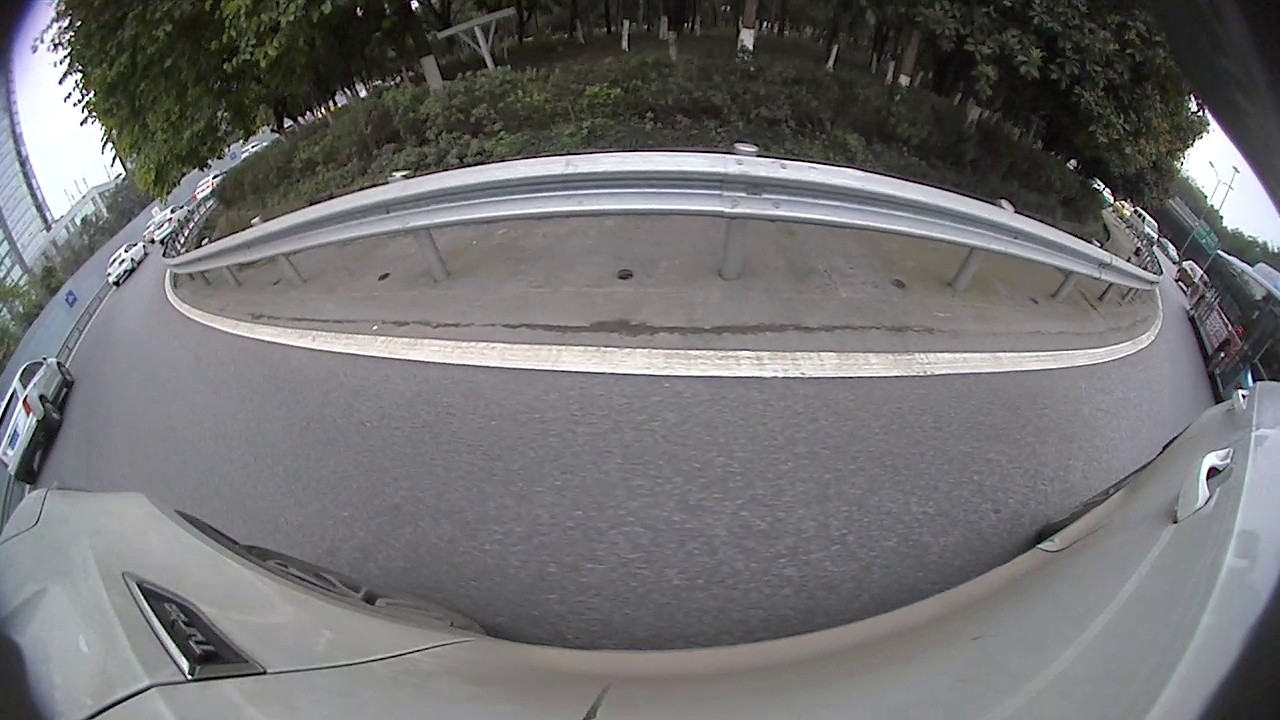bus: (470, 26, 612, 85), (1153, 278, 1194, 342)
car: (174, 114, 340, 225), (1026, 206, 1131, 314), (957, 141, 1048, 222), (1223, 451, 1279, 558), (1177, 343, 1217, 401), (39, 283, 84, 328)
front: (249, 164, 281, 197), (1111, 297, 1129, 318)
rear: (182, 198, 208, 227), (1085, 280, 1108, 308), (999, 198, 1017, 223)
